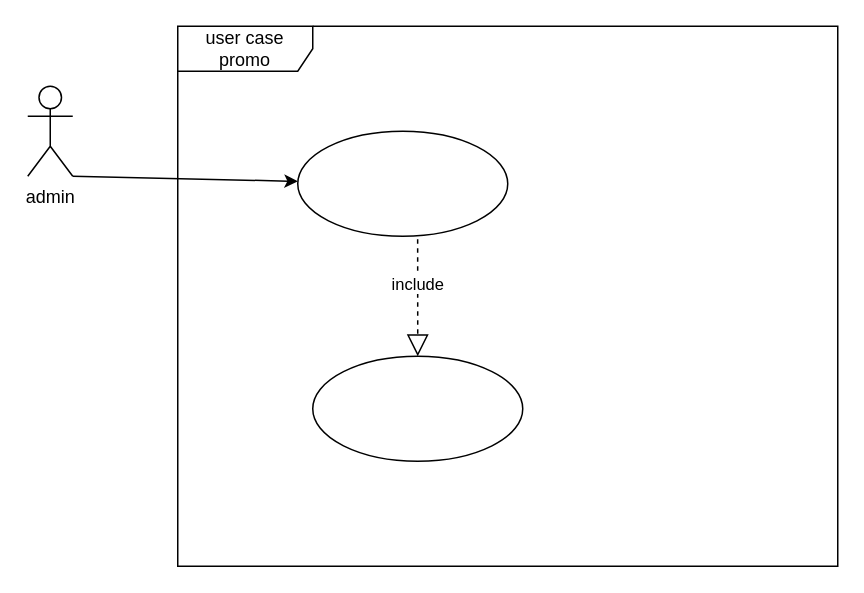
Some shapes in this 864 by 593 pixel diagram are drawn without their labels. The centre of each missing label's shape, as x and y in pixels:
"Produits {moin vendus}" belongs at point 417,408.
"promotion" belongs at point 402,183.
